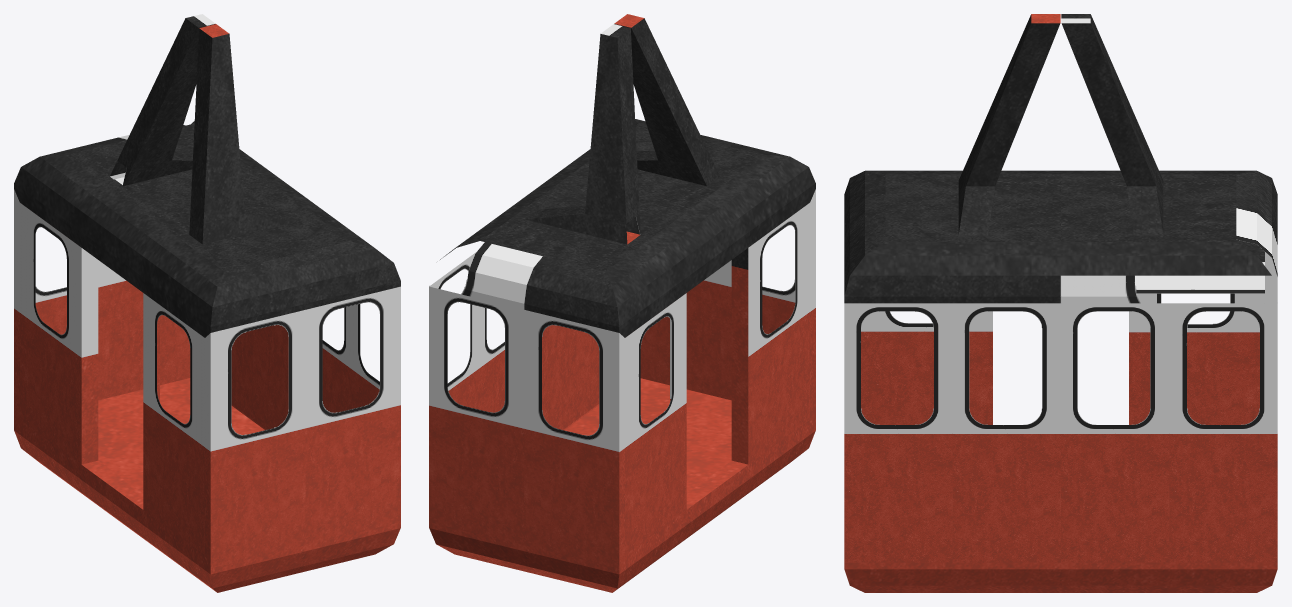
The model's file is cablecar.fbx.
3 views of the same model, side by side, from view 1: azimuth 30°, elevation 25°; view 2: azimuth 150°, elevation 25°; view 3: azimuth 270°, elevation 25° (orthographic). The views are drawn at different scales.
Visible parts, largest first — view 1: CableCar; view 2: CableCar; view 3: CableCar.
Boxes of the visible parts, x1,y1,x2,y2 form: CableCar: [14, 14, 400, 592]; CableCar: [429, 14, 815, 592]; CableCar: [844, 14, 1277, 592].
Bounding box in the file's own units: 500 × 1224 × 895.
